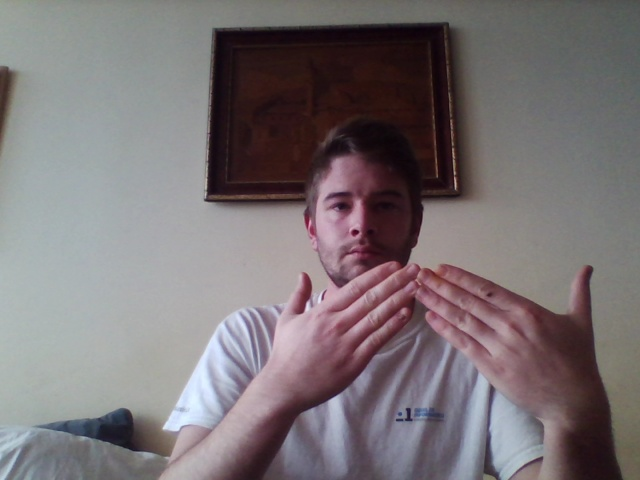hvala: (274, 262, 600, 411)
